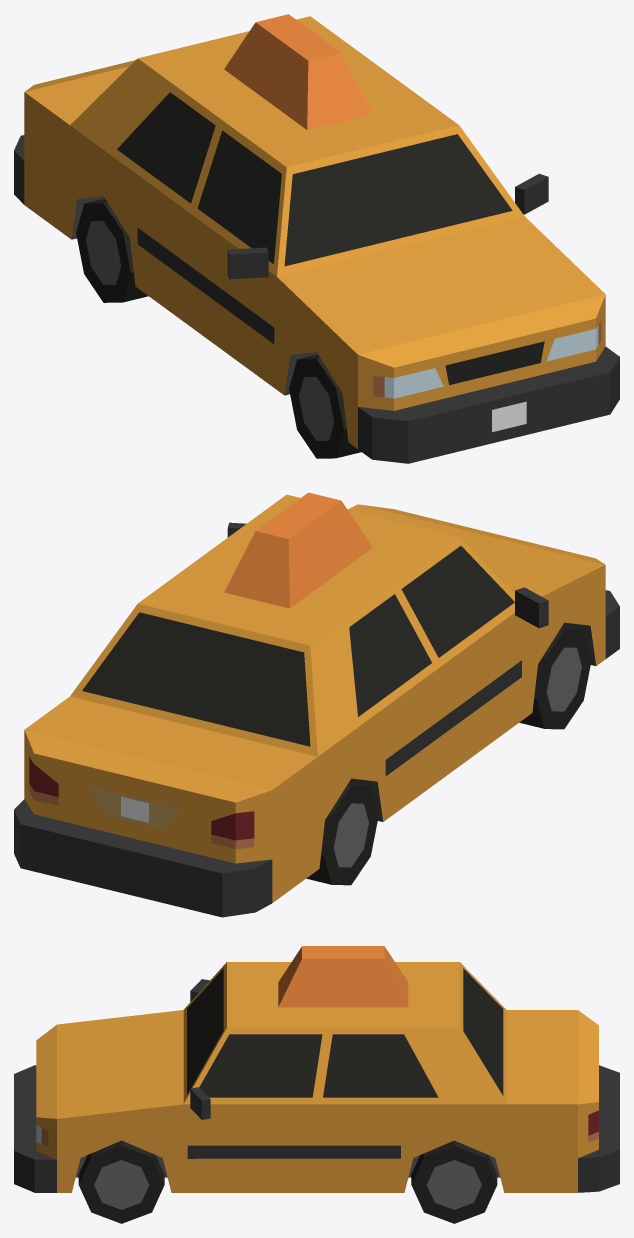
Rendered from Veh_Taxi.obj.
3 renders of one model, top to bottom at view 1: azimuth 30°, elevation 25°; view 2: azimuth 150°, elevation 25°; view 3: azimuth 270°, elevation 25°, orthographic. The views are drawn at different scales.
Bounding box in the file's own units: 1.22 × 1.05 × 2.57.
